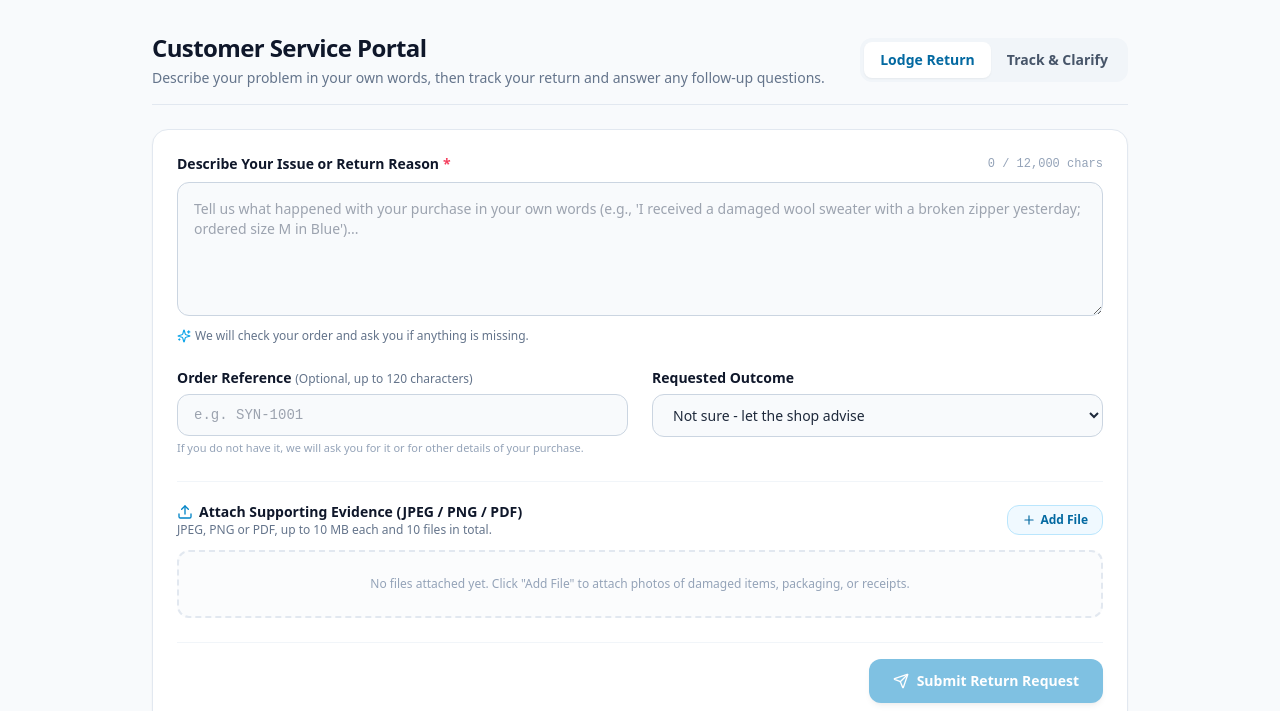
Scenario: CustomerPortal: My Requests › keeps the open case when Enter meets several matches, and a search word is no case ID (1 November 2026)
The width and height of the screenshot is (1280, 711).
Click the button "Track & Clarify".
click(1057, 60)  # box [991,42,1124,78]
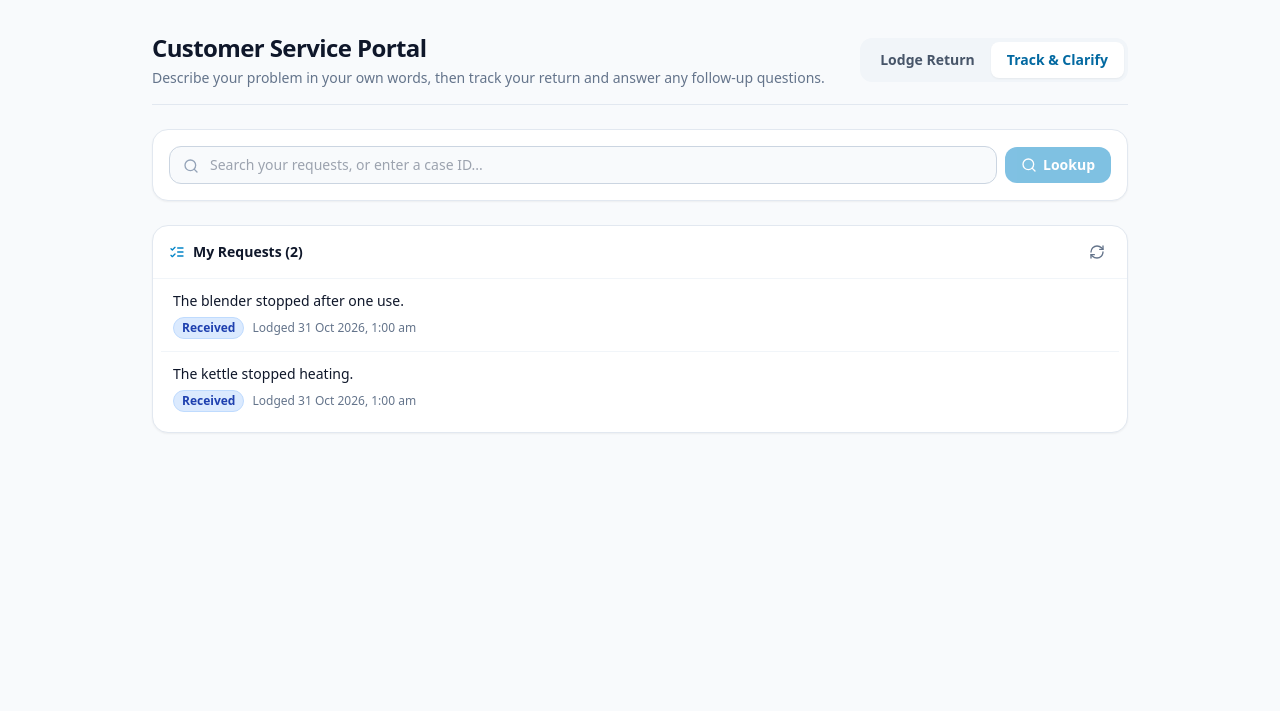
Click the button "The blender stopped".
click(288, 300)  # box [161,279,1119,351]
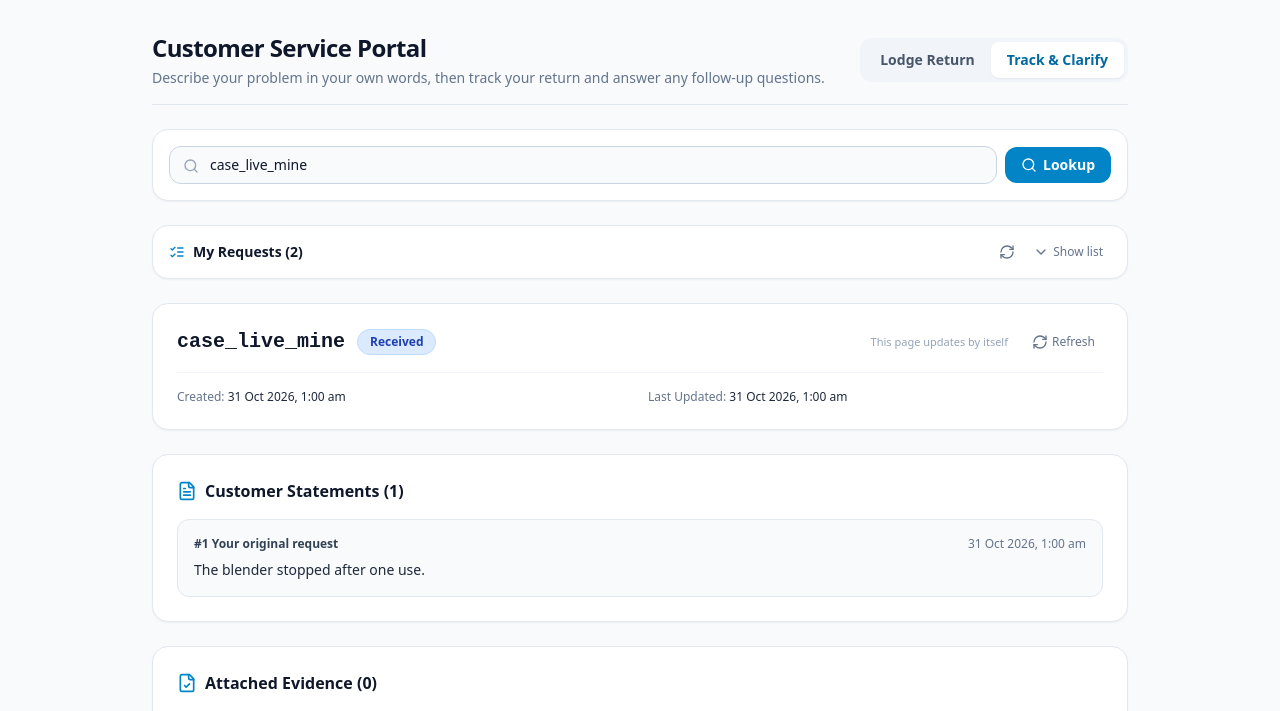
expect the text "The blender stopped after one use." is shown: met, box [194,560,425,579]
Replace the text in the field named "case ID" with "stopped" at (583, 165), box [169,146,997,184]
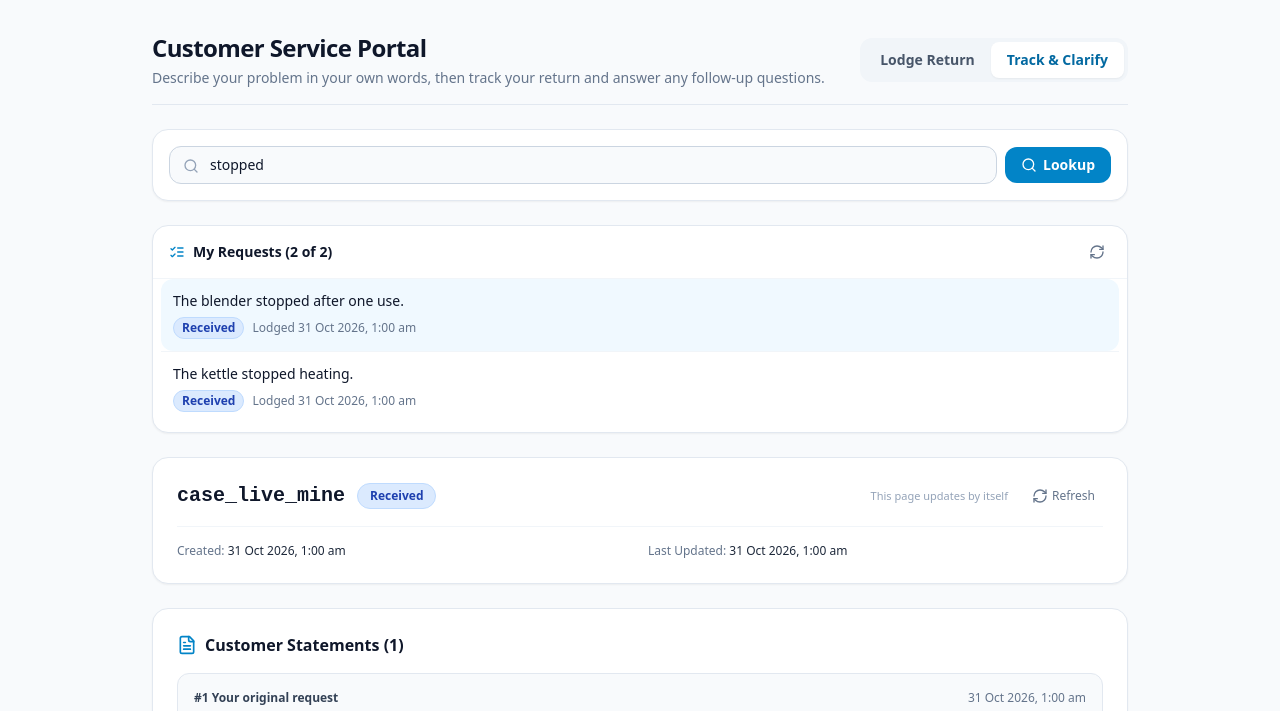
expect the text "My Requests (2 of 2)" is shown: met, box [193,242,332,262]
Submit the form named "case ID", box [169,146,1111,184]
Back to Track & Clarify with the word still in the box: it stays a search.
Click the button "Lodge Return".
click(928, 60)  # box [864,42,991,78]
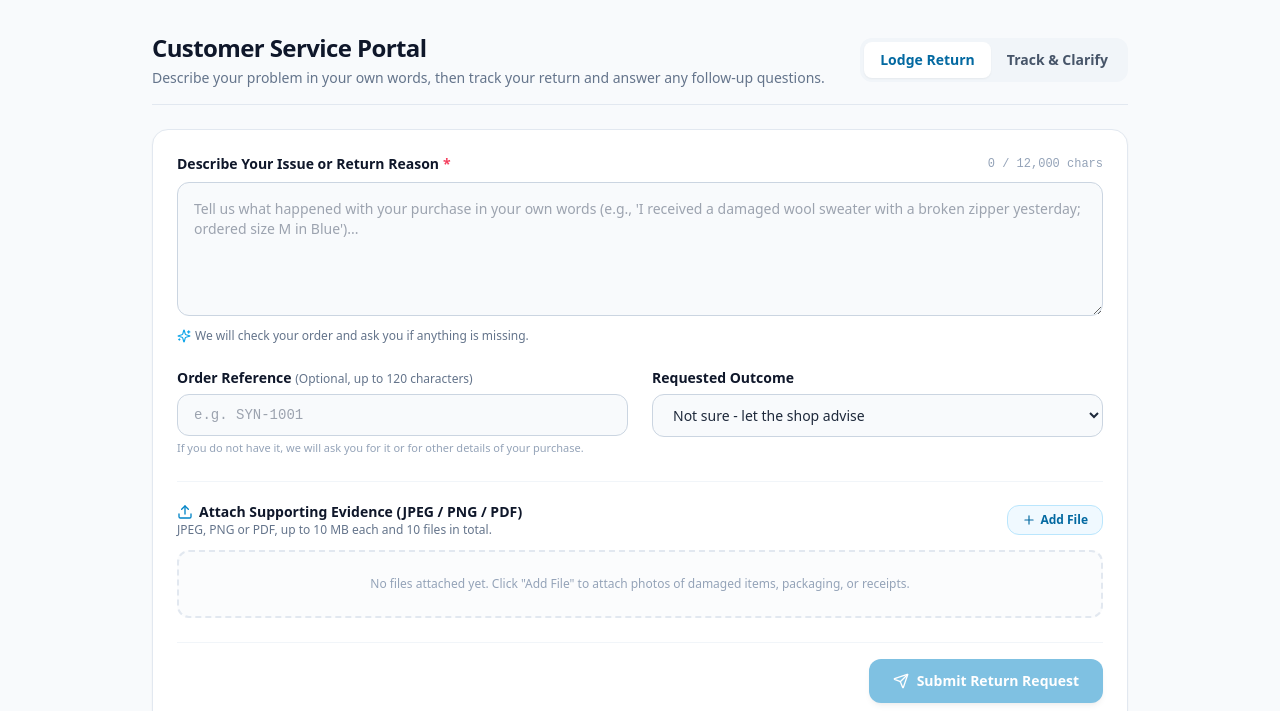
Click the button "Track & Clarify".
click(1057, 60)  # box [991,42,1124,78]
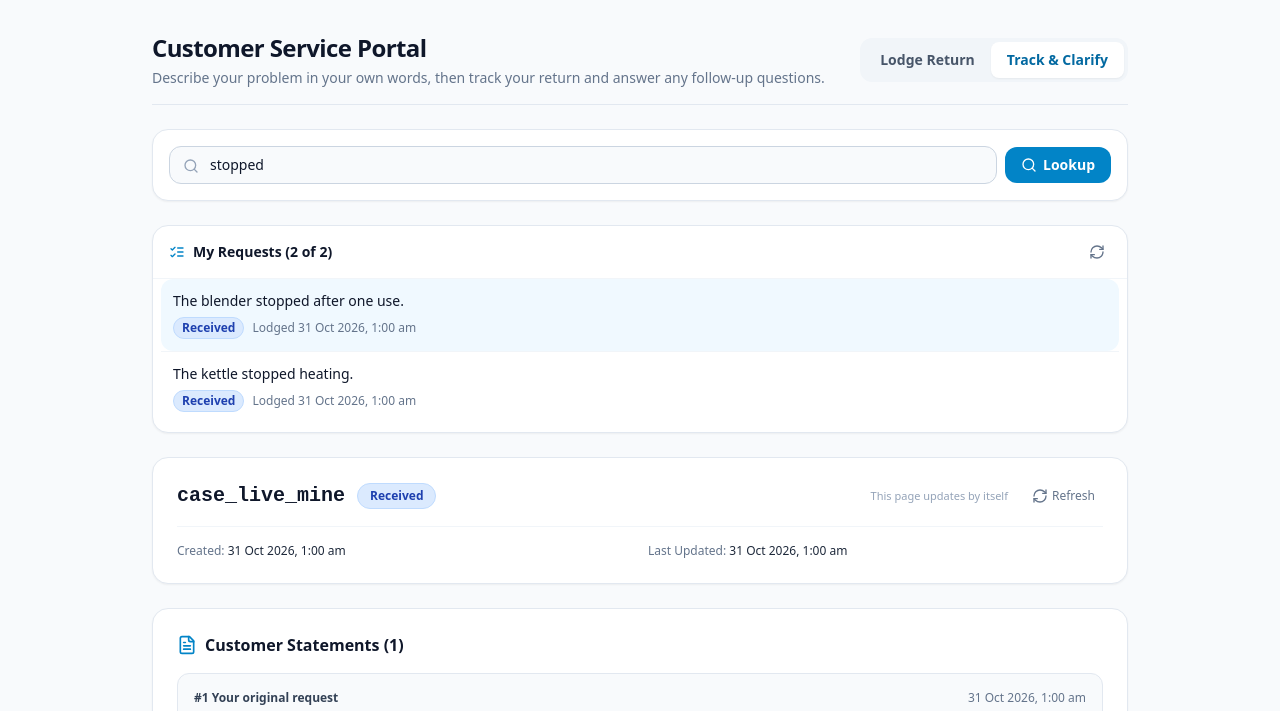
expect the button "The kettle stopped heating" is shown: met, box [161,352,1119,424]
